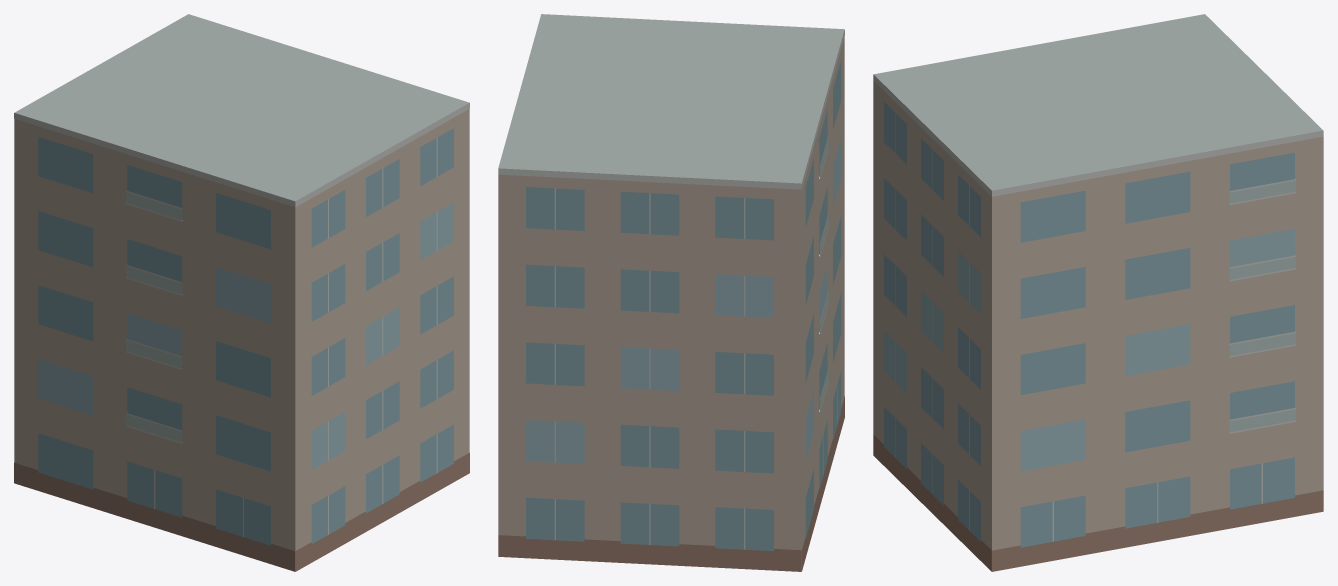
Rendered from residential-78fe21a3-2b97-44a3-85b0-4e89fcb819b7.glb.
3 renders of one model, left to right at view 1: azimuth 30°, elevation 25°; view 2: azimuth 150°, elevation 25°; view 3: azimuth 270°, elevation 25°, orthographic. The views are drawn at different scales.
Visible parts, largest first — view 1: residential-78fe21a3-2b97-44a3-85b0-4e89fcb819b7.tmp; view 2: residential-78fe21a3-2b97-44a3-85b0-4e89fcb819b7.tmp; view 3: residential-78fe21a3-2b97-44a3-85b0-4e89fcb819b7.tmp.
Boxes of the visible parts, x1,y1,x2,y2 form: residential-78fe21a3-2b97-44a3-85b0-4e89fcb819b7.tmp: (14, 14, 469, 571); residential-78fe21a3-2b97-44a3-85b0-4e89fcb819b7.tmp: (498, 14, 844, 571); residential-78fe21a3-2b97-44a3-85b0-4e89fcb819b7.tmp: (873, 14, 1323, 571).
Size of the model in its own units: 15.18 by 15.25 by 16.33.
